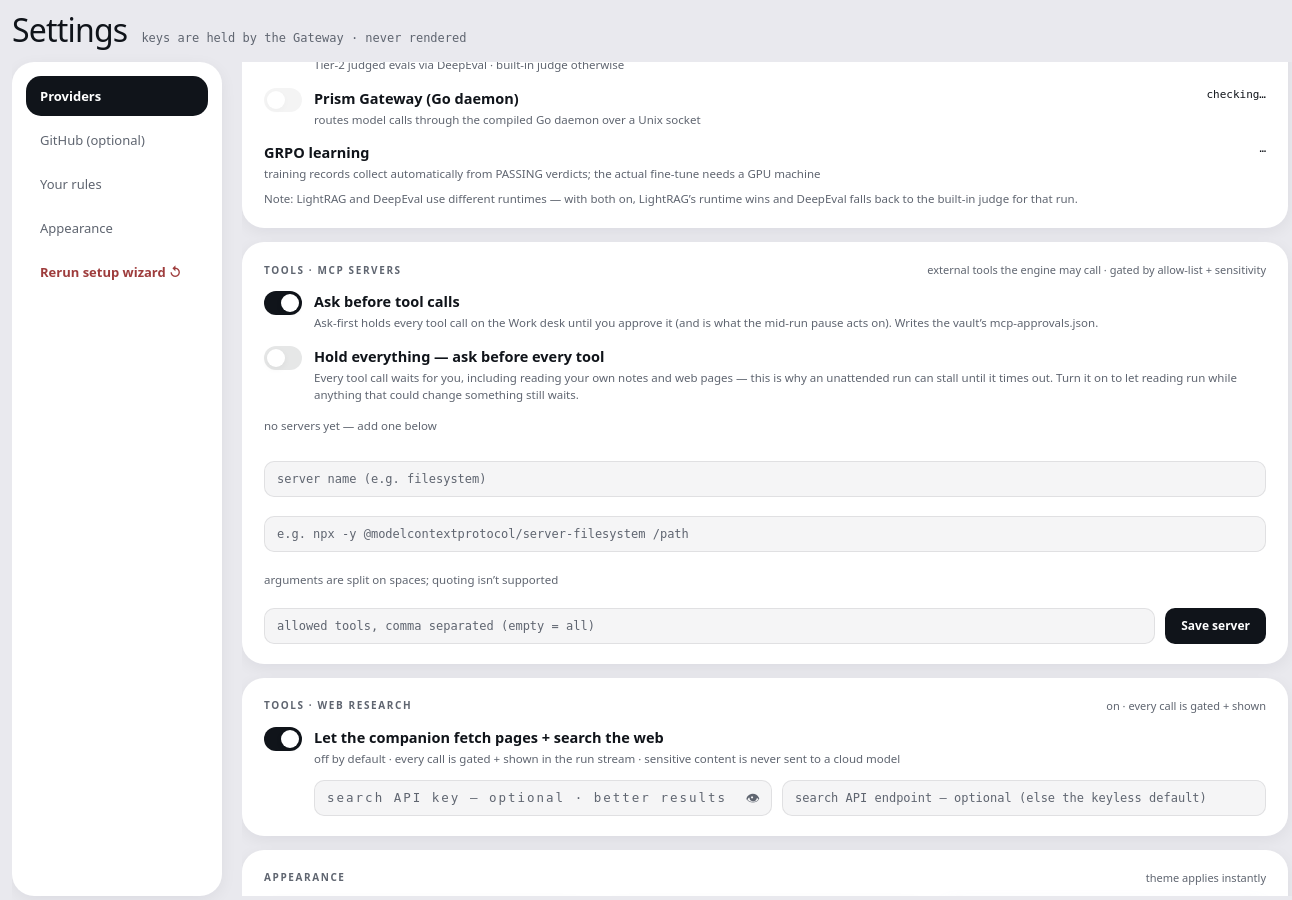
it: Settings — MCP servers section (native shell) › adds a server, tests it (real tool names from the engine), then removes it
The image size is (1292, 900).
(page scrolled)
Expected: the text "no servers yet — add one below" is shown, left=264, top=418, right=437, bottom=433
In the field named "mcp server name": (765, 479) left=264, top=461, right=1266, bottom=497, type "filesystem"
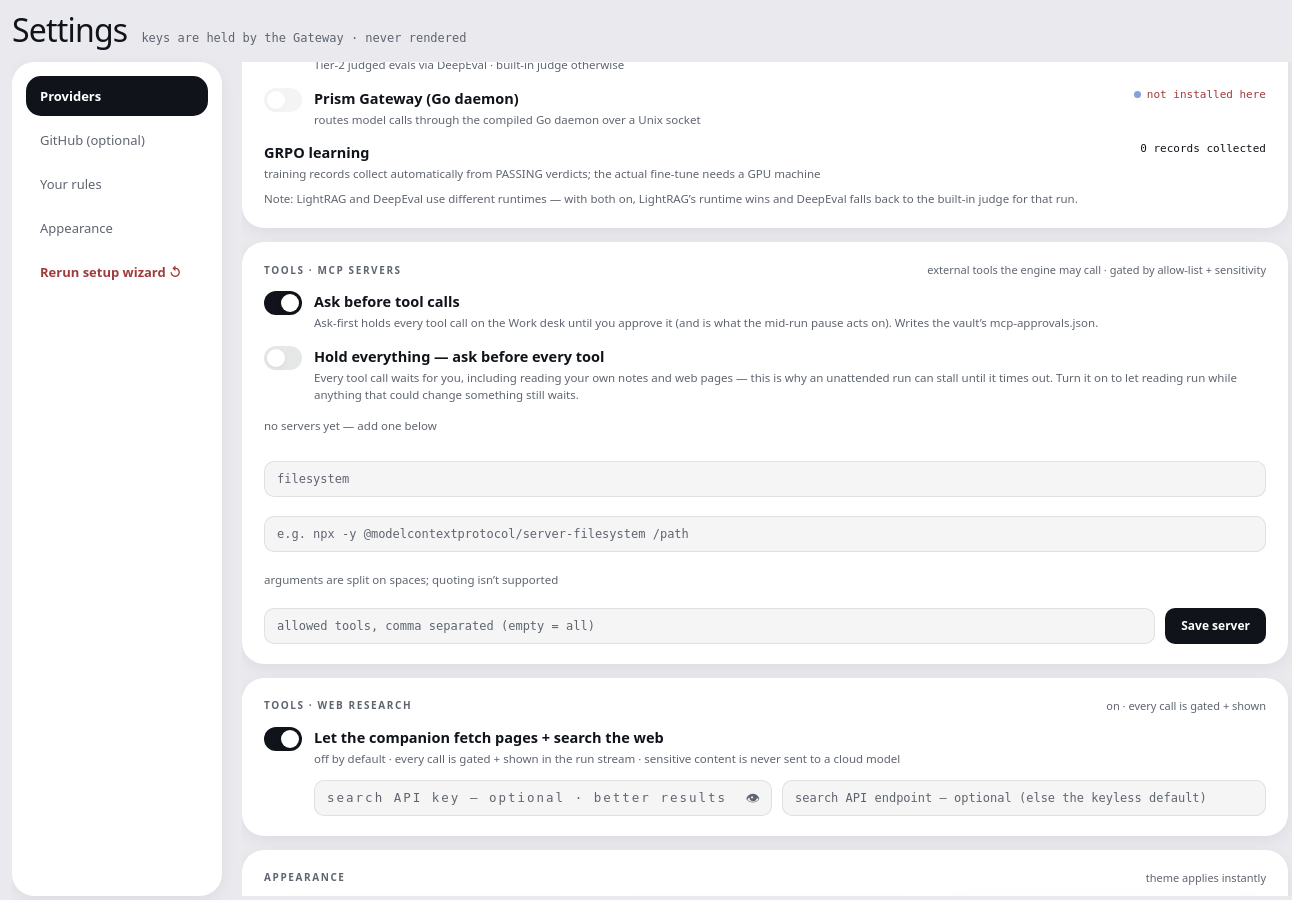
In the field named "mcp server command": (765, 534) left=264, top=516, right=1266, bottom=552, type "npx -y @modelcontextprotocol/server-filesystem /tmp"
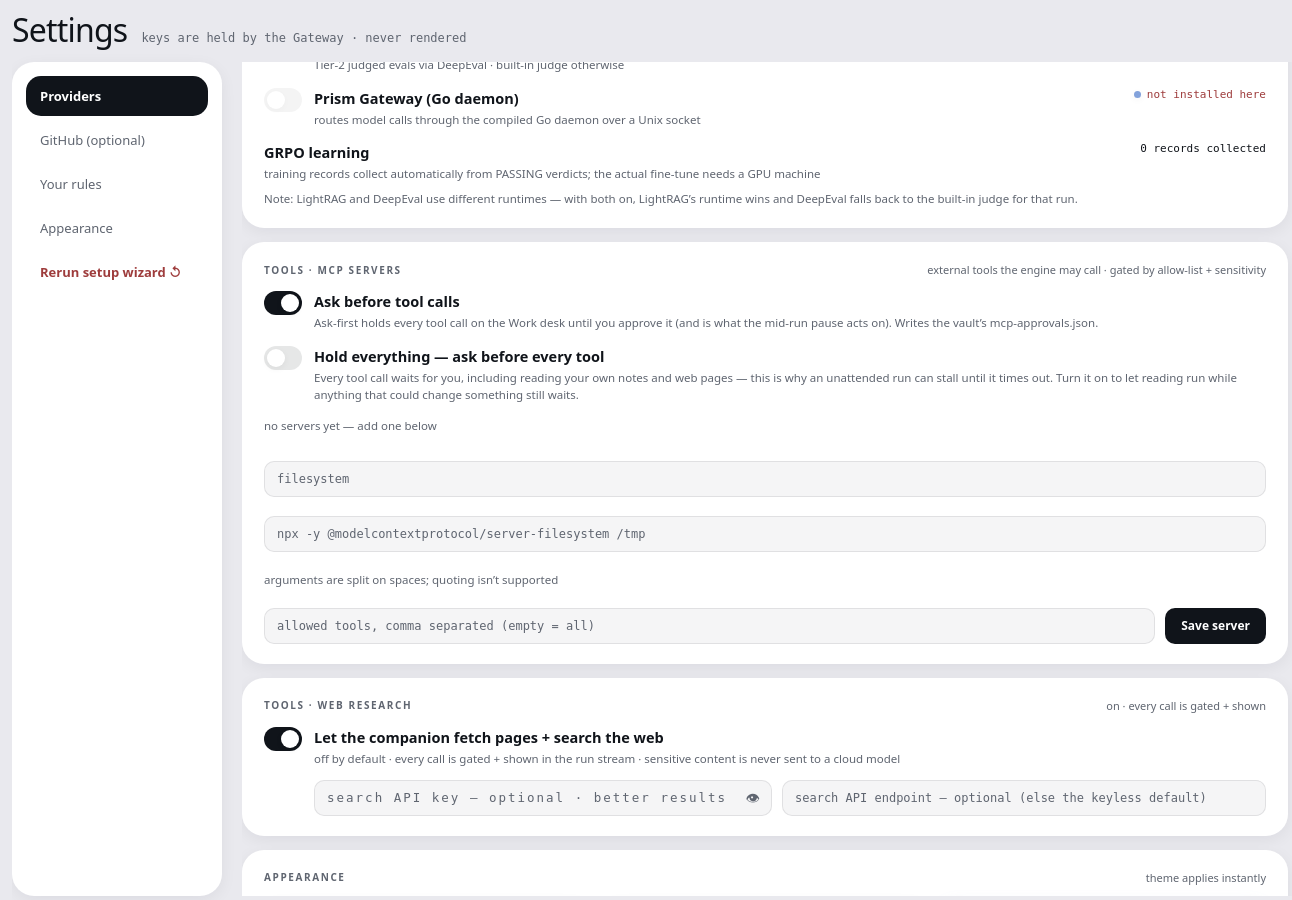
Click the button "Save server": (1216, 626) left=1165, top=608, right=1266, bottom=644
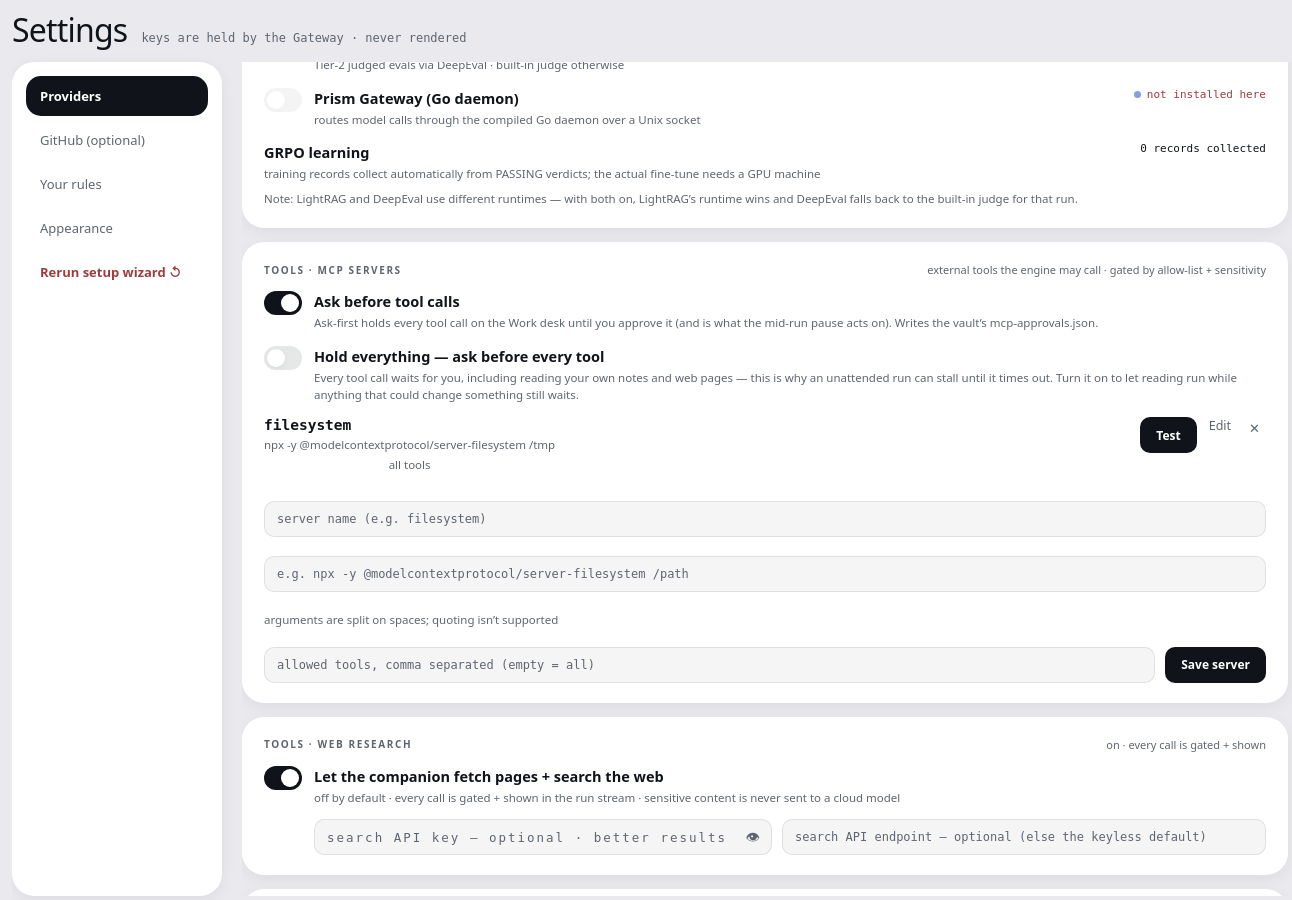
Now the text "filesystem" is shown, box left=264, top=417, right=351, bottom=433
Now the text "npx -y @modelcontextprotocol/server-filesystem /tmp" is shown, box left=264, top=436, right=555, bottom=453
Now the text "all tools" is shown, box left=389, top=456, right=430, bottom=474
Click the button with aria-label "test filesystem": (1168, 435) left=1140, top=417, right=1197, bottom=453
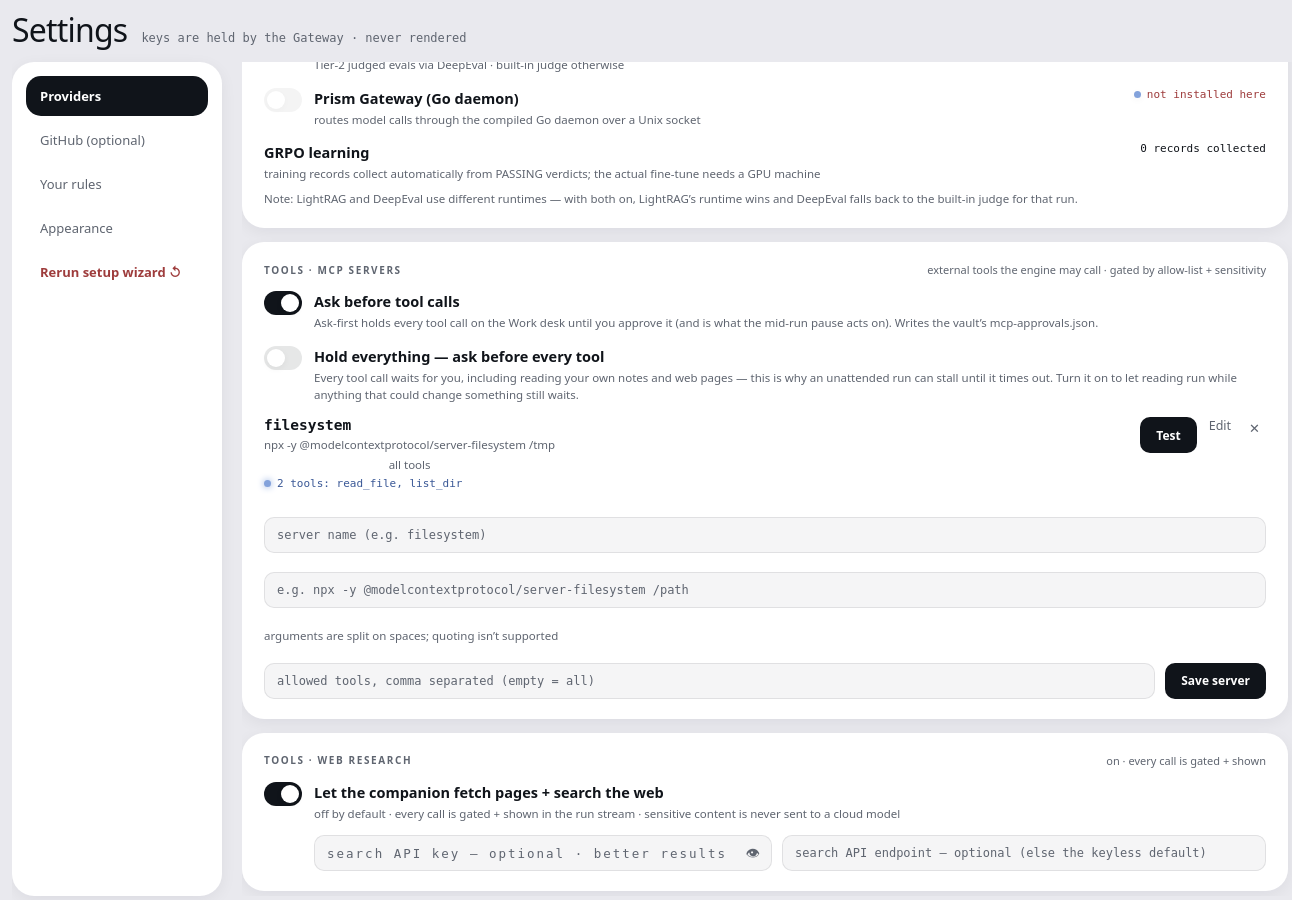
Now the text "2 tools: read_file, list_dir" is shown, box left=264, top=477, right=462, bottom=490
Click the button named "remove filesystem": (1255, 429) left=1243, top=417, right=1266, bottom=440
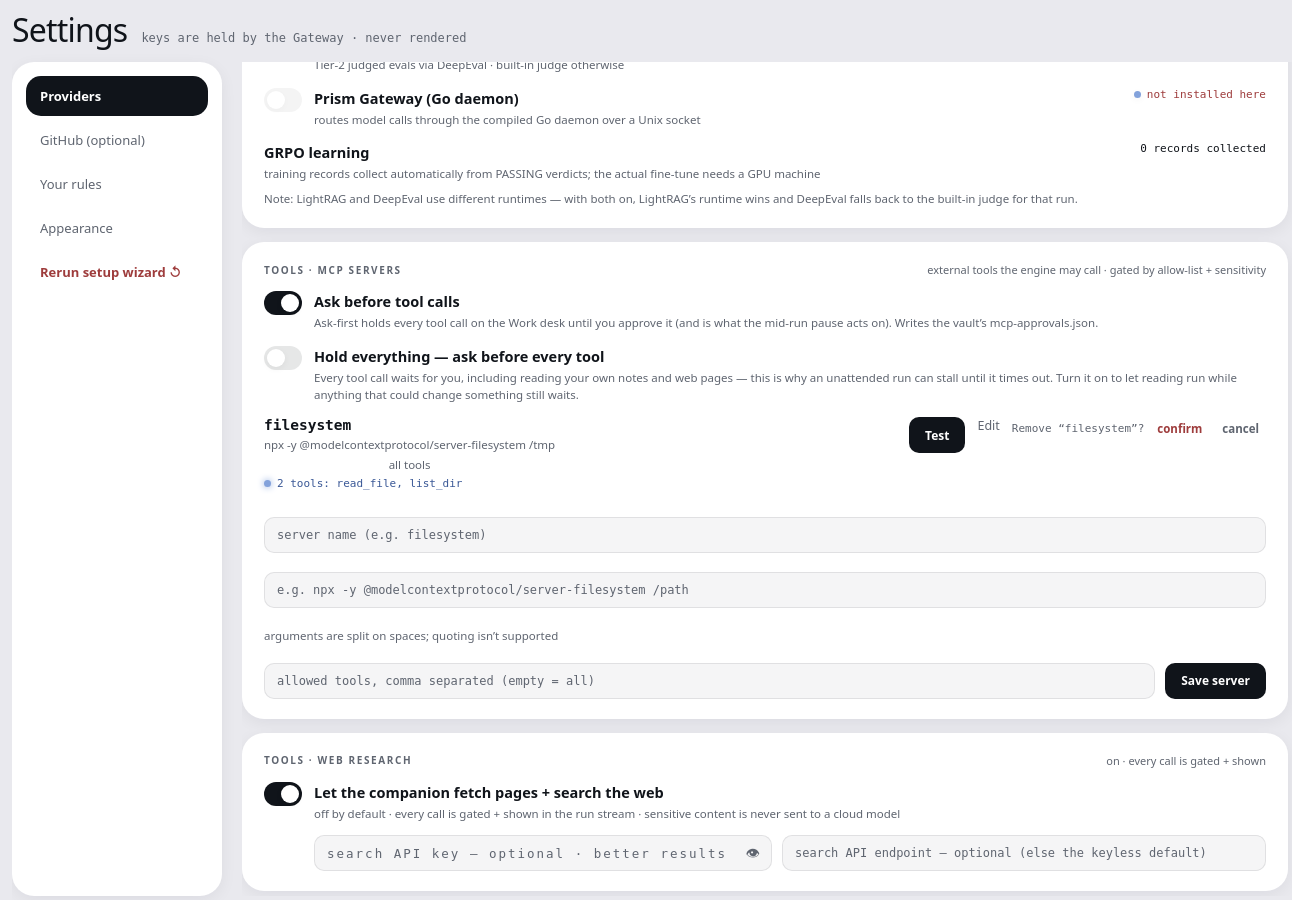
Now the text "filesystem" is shown, box left=264, top=417, right=351, bottom=433
Click the button with aria-label "confirm remove filesystem": (1180, 429) left=1150, top=417, right=1209, bottom=440
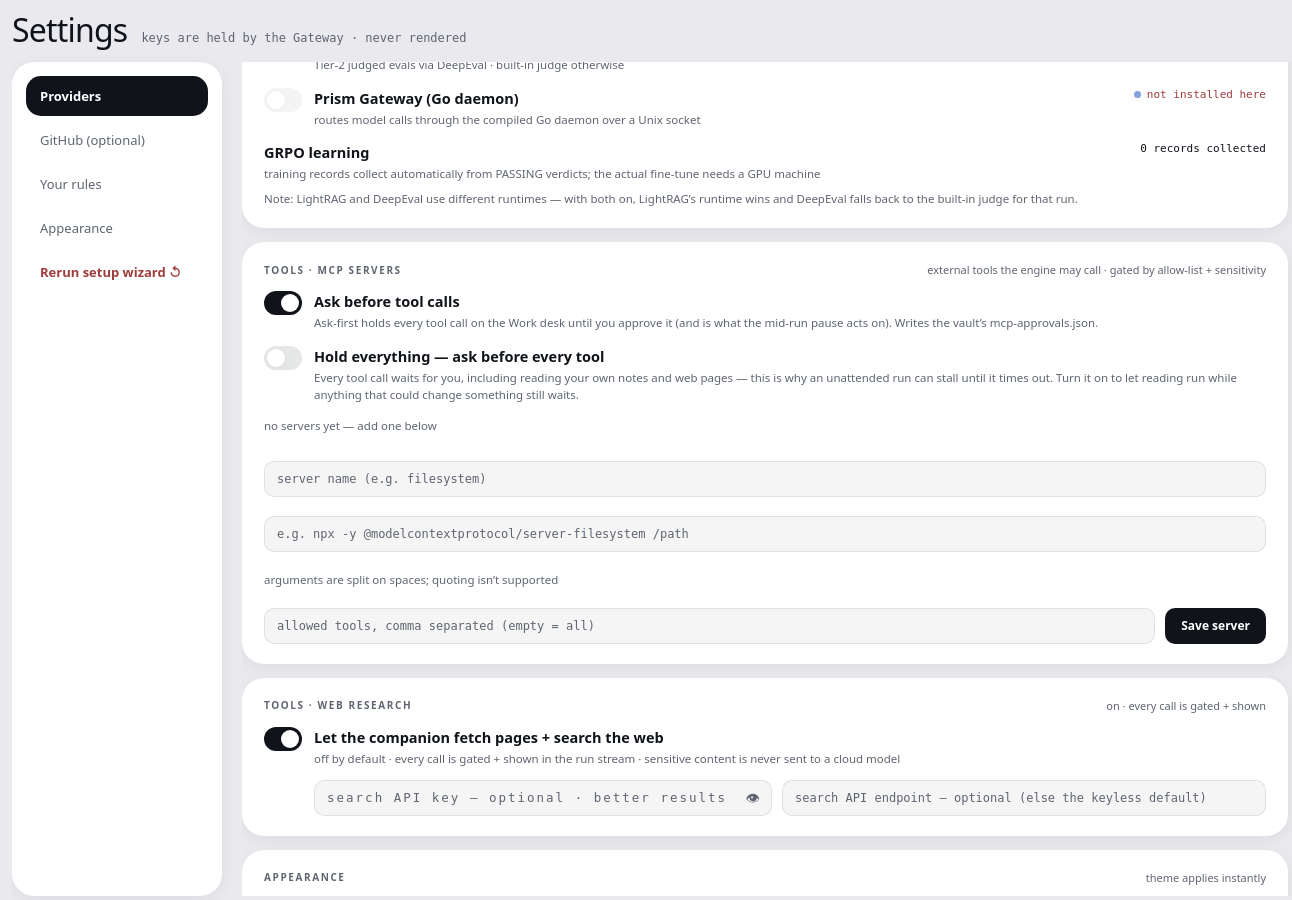
Now the text "no servers yet — add one below" is shown, box left=264, top=418, right=437, bottom=433
